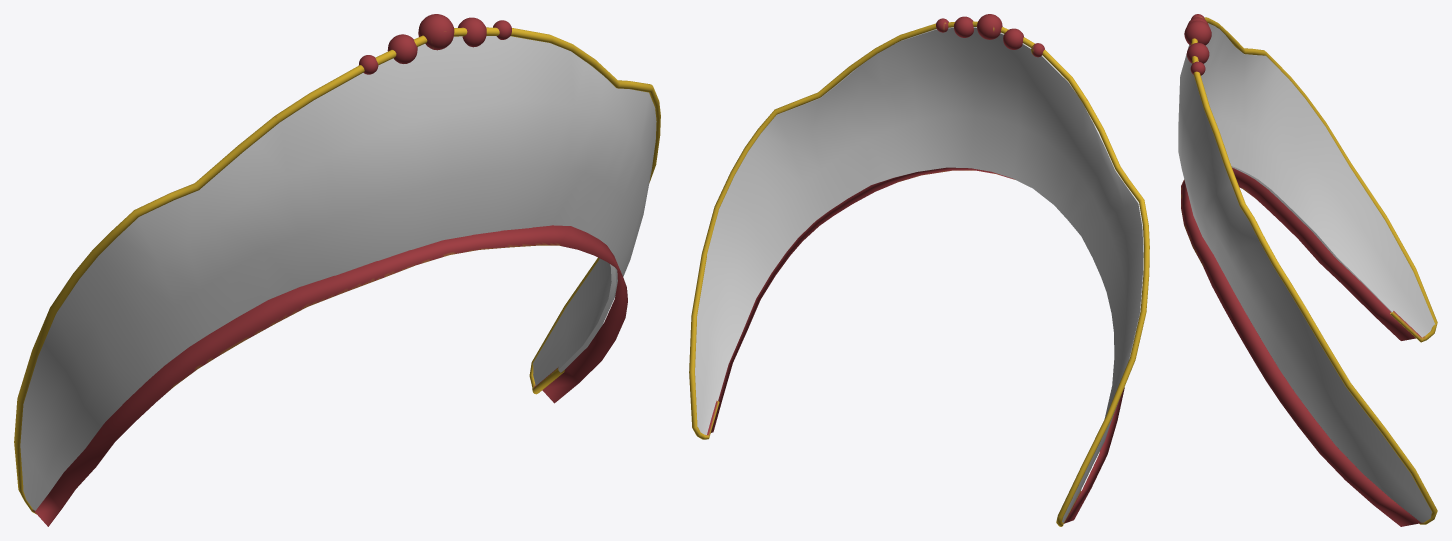
Rendered from khokhloma_hat_scale.gltf.
The picture shows the model from 3 angles, left to right: view 1: azimuth 30°, elevation 25°; view 2: azimuth 150°, elevation 25°; view 3: azimuth 270°, elevation 25°; orthographic projection. The views are drawn at different scales.
Parts seen in each view (by area): view 1: main, details; view 2: main, details; view 3: main, details.
Boxes of the visible parts, x1=… form: main: x1=20, y1=36, x2=656, y2=510; details: x1=14, y1=14, x2=660, y2=526; main: x1=695, y1=27, x2=1143, y2=522; details: x1=689, y1=14, x2=1149, y2=526; main: x1=1178, y1=23, x2=1435, y2=522; details: x1=1181, y1=14, x2=1437, y2=526.
Bounding box in the file's own units: 0.2065 × 0.1779 × 0.1015.
2 materials, 1 textured.
